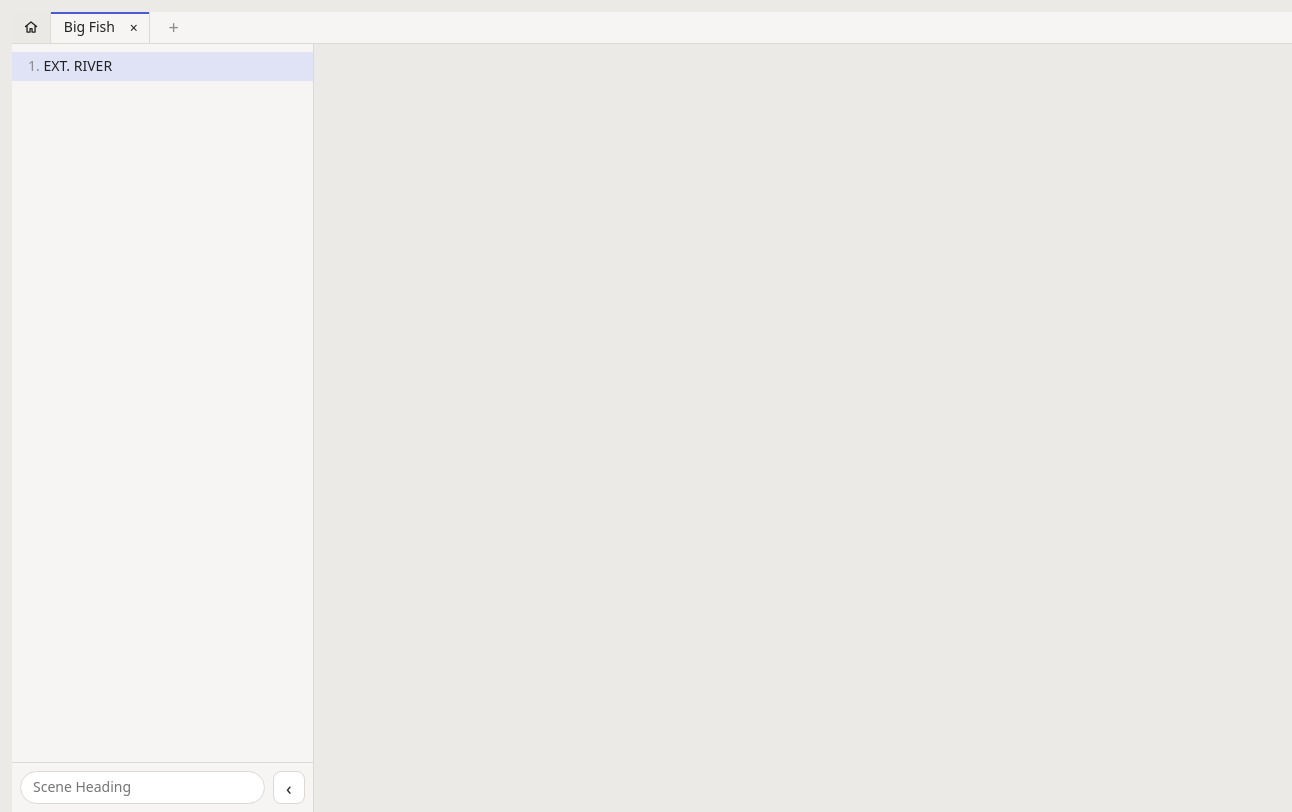
Test case: welcome screen › opens a new script in a tab of its own, beside those already open
Click the button named "Home" at (32, 27), box top-left (12, 12), bottom-right (51, 43)
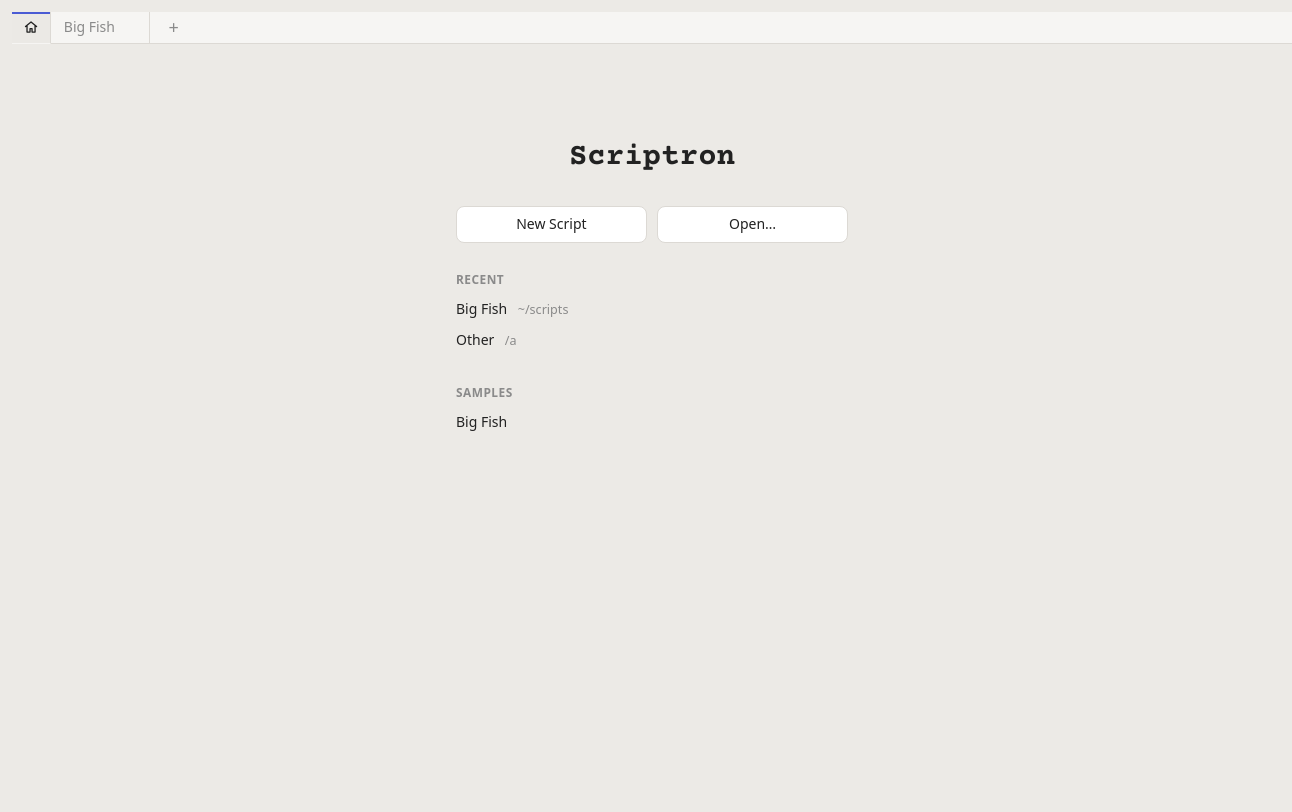
Click the button "New Script" at (551, 224), box top-left (456, 206), bottom-right (647, 243)
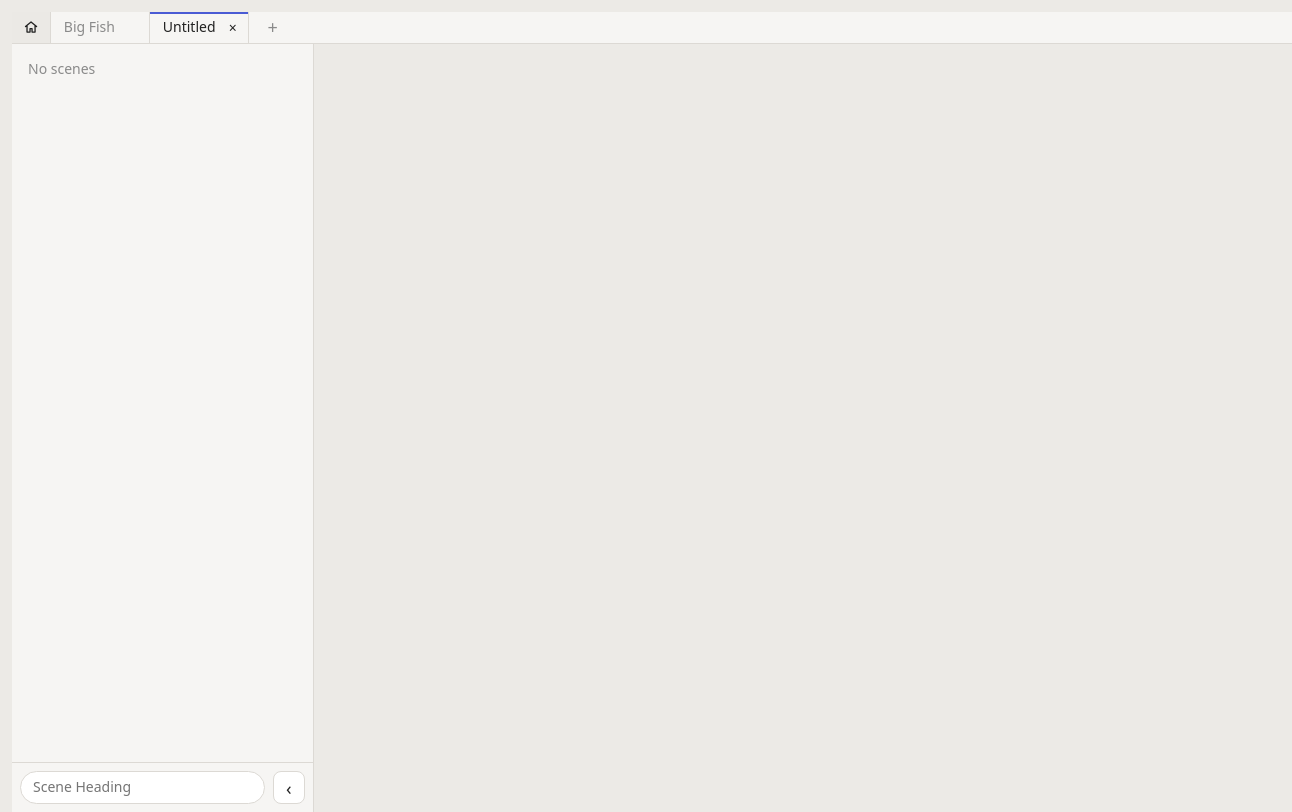
Check: the tab "Untitled" is shown, box top-left (150, 12), bottom-right (223, 43)
